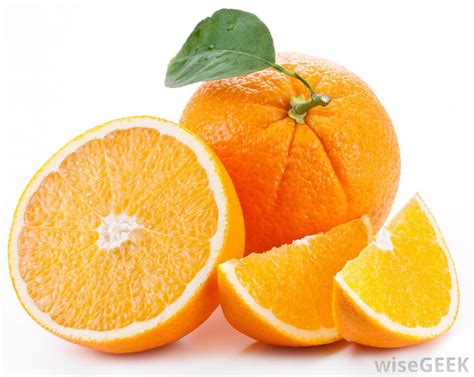orange: (177, 43, 406, 247)
